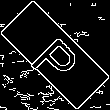P_NE: (24, 24, 86, 86)
